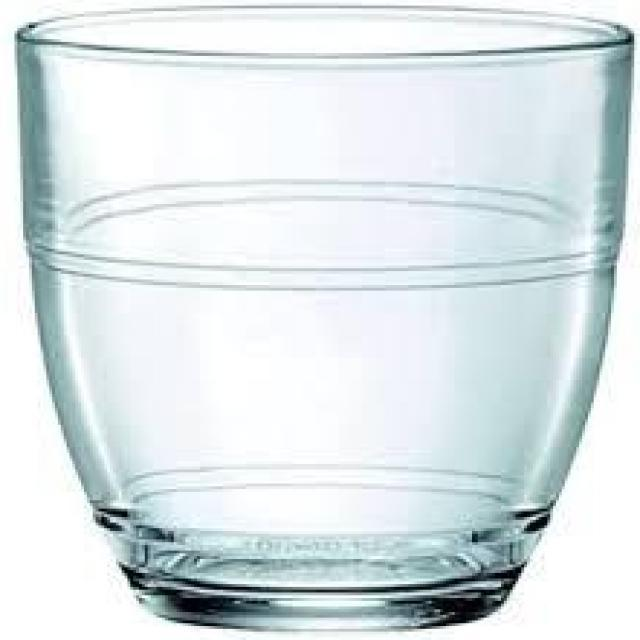glass: (11, 0, 634, 632)
